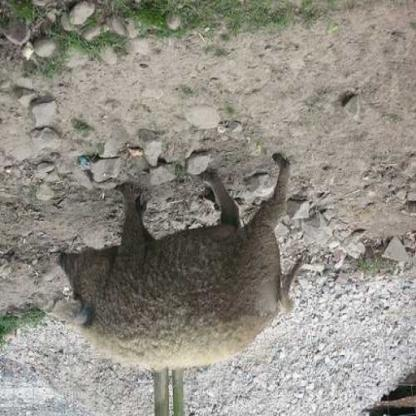boar: (45, 153, 311, 399)
